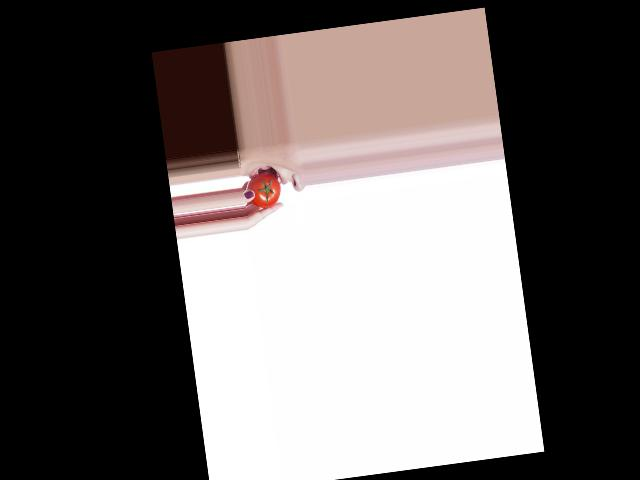tomato: (244, 171, 282, 210)
